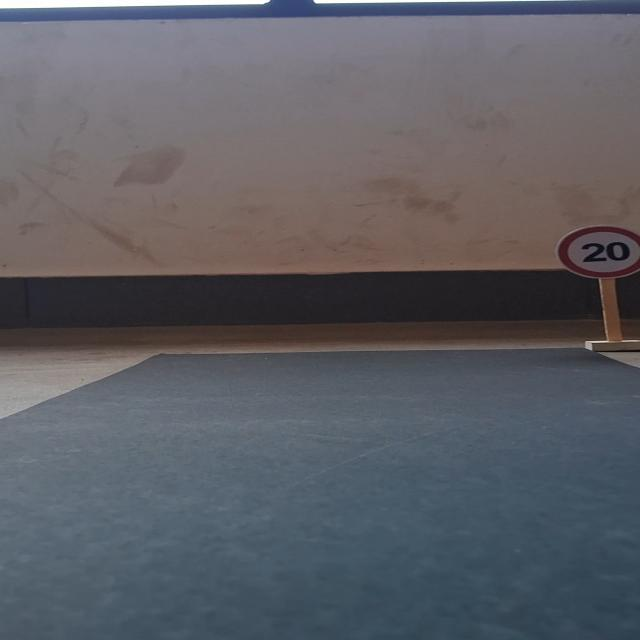Speed20: (548, 223, 640, 281)
